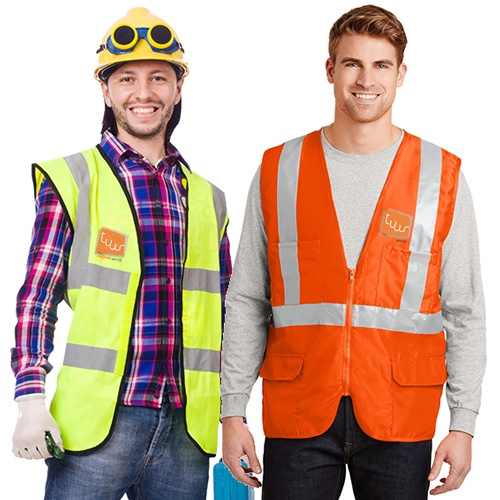helmet: (93, 9, 188, 73)
person with full safety: (18, 16, 226, 500)
person with partial safety: (231, 5, 468, 500)
safety vest: (260, 126, 450, 442), (31, 152, 225, 456)
